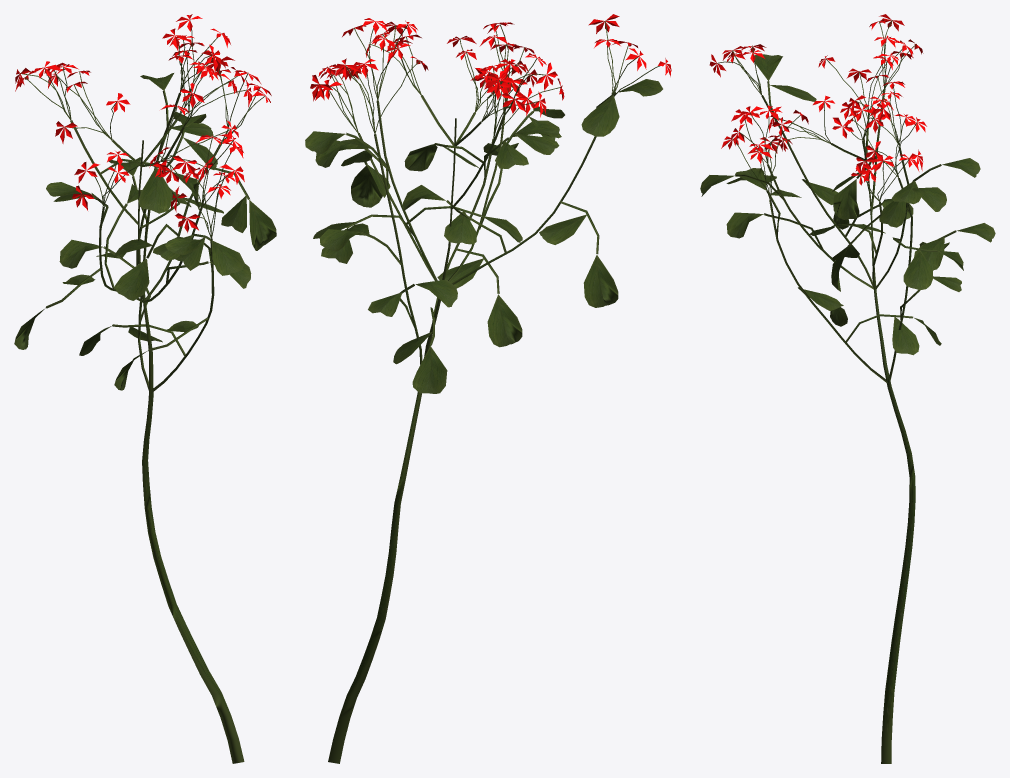
Rendered from flower.gltf.
3 renders of one model, left to right at view 1: azimuth 30°, elevation 25°; view 2: azimuth 150°, elevation 25°; view 3: azimuth 270°, elevation 25°, orthographic. The views are drawn at different scales.
Visible parts, largest first — view 1: iFlowers-01_39; view 2: iFlowers-01_39; view 3: iFlowers-01_39.
Part boxes in pixels (box(x1,y1,x2,y2)): iFlowers-01_39: box(14, 14, 276, 763); iFlowers-01_39: box(305, 14, 671, 763); iFlowers-01_39: box(700, 14, 995, 763).
Bounding box in the file's own units: 0.2312 × 0.5986 × 0.2416.
3 materials, 2 textured.
